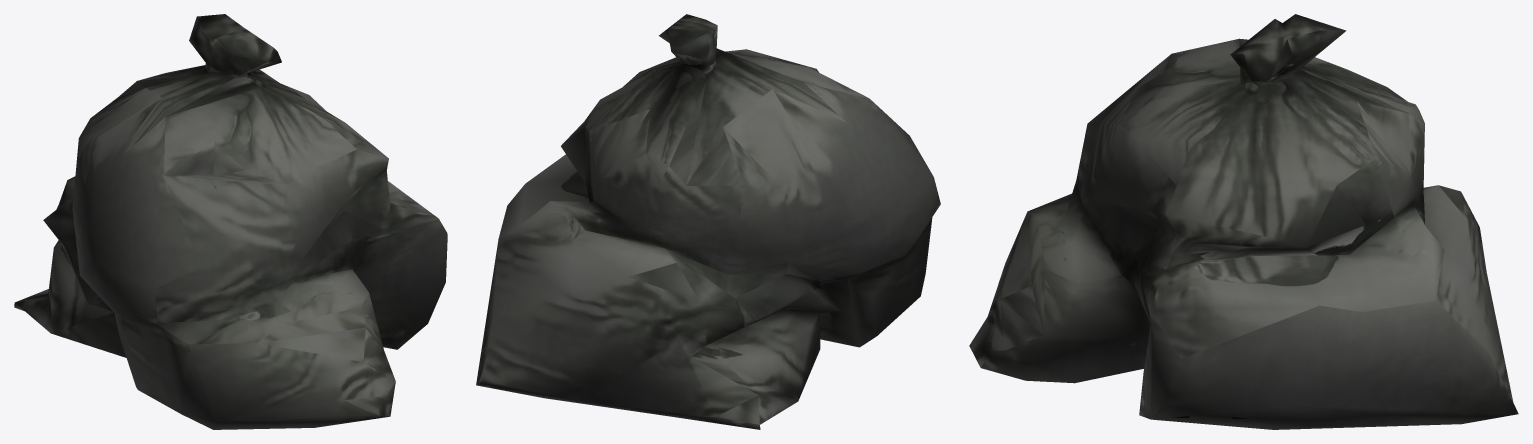
Rendered from SM_Trashbag_02.fbx.
3 views of the same model, side by side, from view 1: azimuth 30°, elevation 25°; view 2: azimuth 150°, elevation 25°; view 3: azimuth 270°, elevation 25° (orthographic). The views are drawn at different scales.
Visible parts, largest first — view 1: SM_Trashbag_02; view 2: SM_Trashbag_02; view 3: SM_Trashbag_02.
Boxes of the visible parts, bbox=[...] form: SM_Trashbag_02: bbox=[14, 14, 447, 429]; SM_Trashbag_02: bbox=[476, 14, 940, 429]; SM_Trashbag_02: bbox=[969, 14, 1518, 429].
Size of the model in its own units: 122 by 104 by 152.
